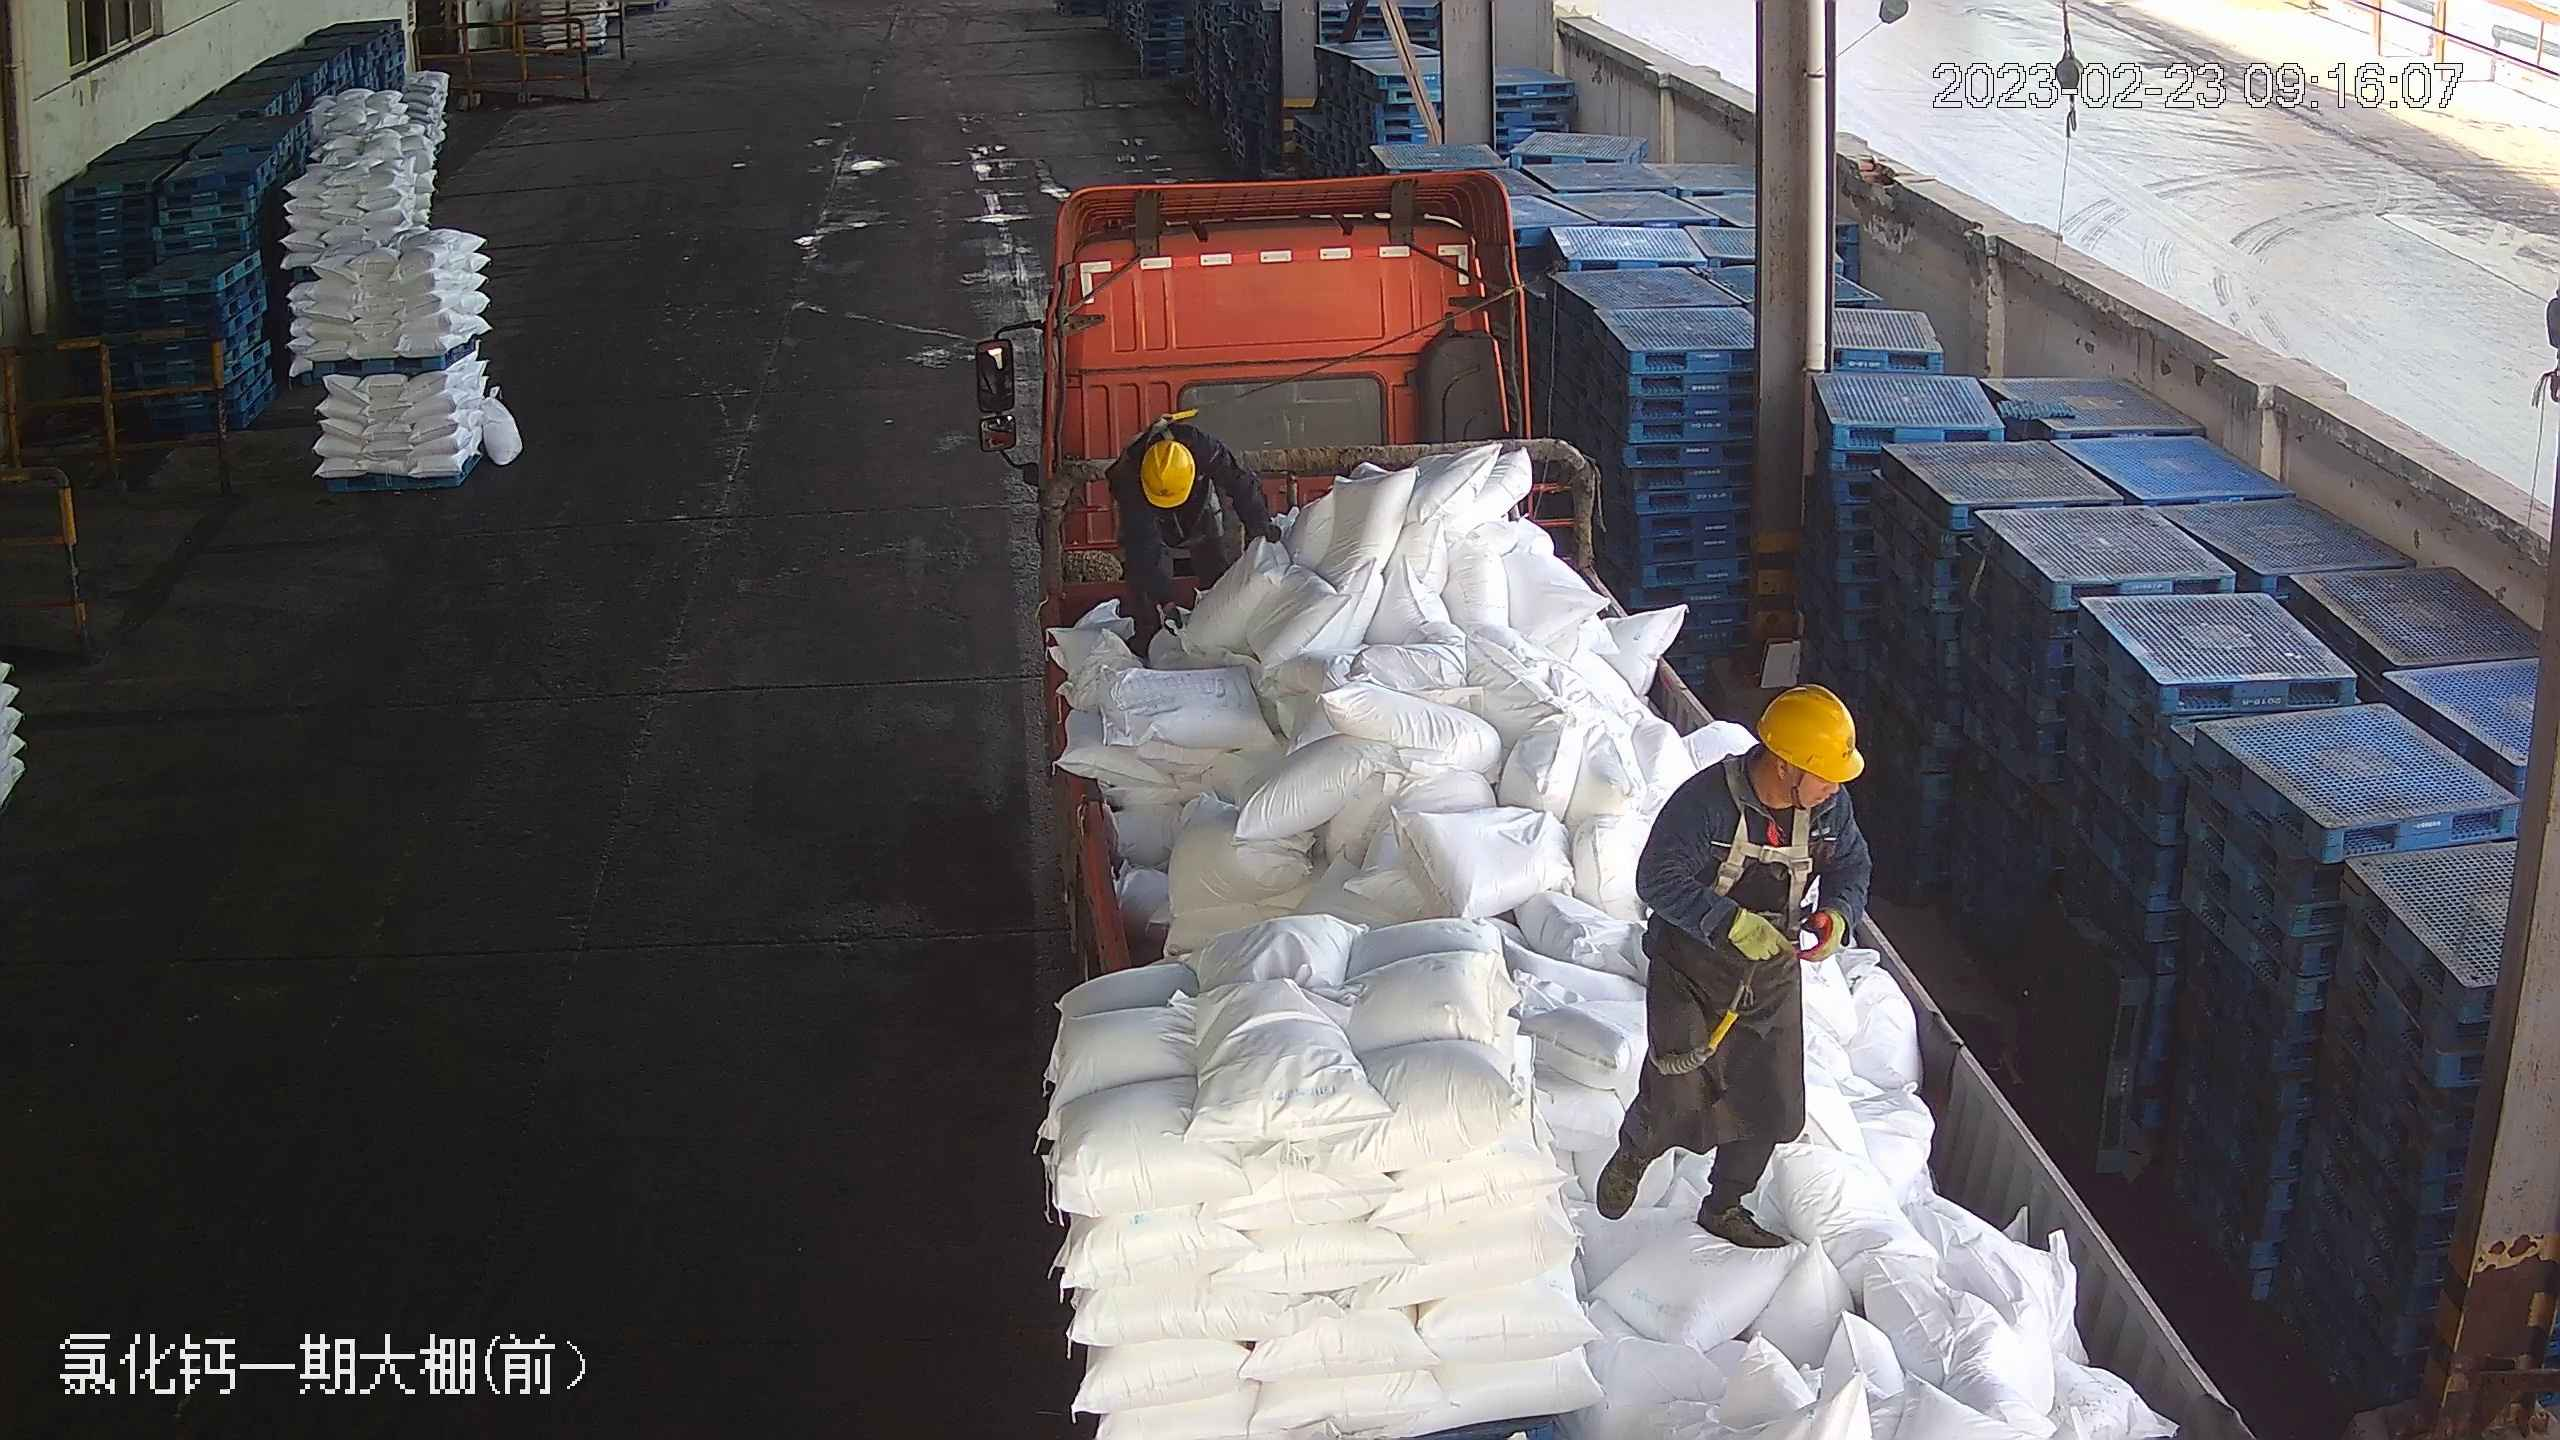belt: (1714, 773, 1837, 910), (1140, 396, 1218, 460)
head: (1666, 683, 1865, 869), (1117, 419, 1248, 520)
helmet: (1753, 682, 1863, 778), (1135, 433, 1197, 505)
people: (1589, 680, 1862, 1252), (1103, 415, 1287, 663)
truck: (986, 165, 2265, 1435)
